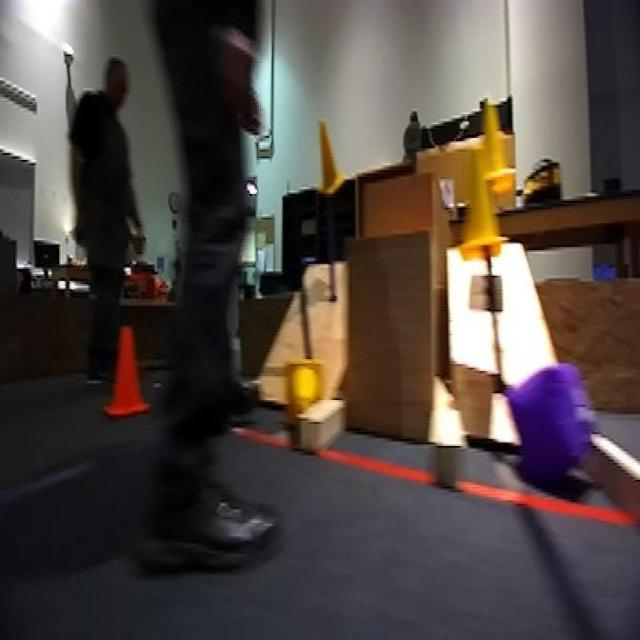frc_cone: (458, 143, 503, 266), (472, 95, 514, 196), (314, 110, 351, 190), (281, 364, 326, 410)
frc_cube: (512, 354, 601, 502)
